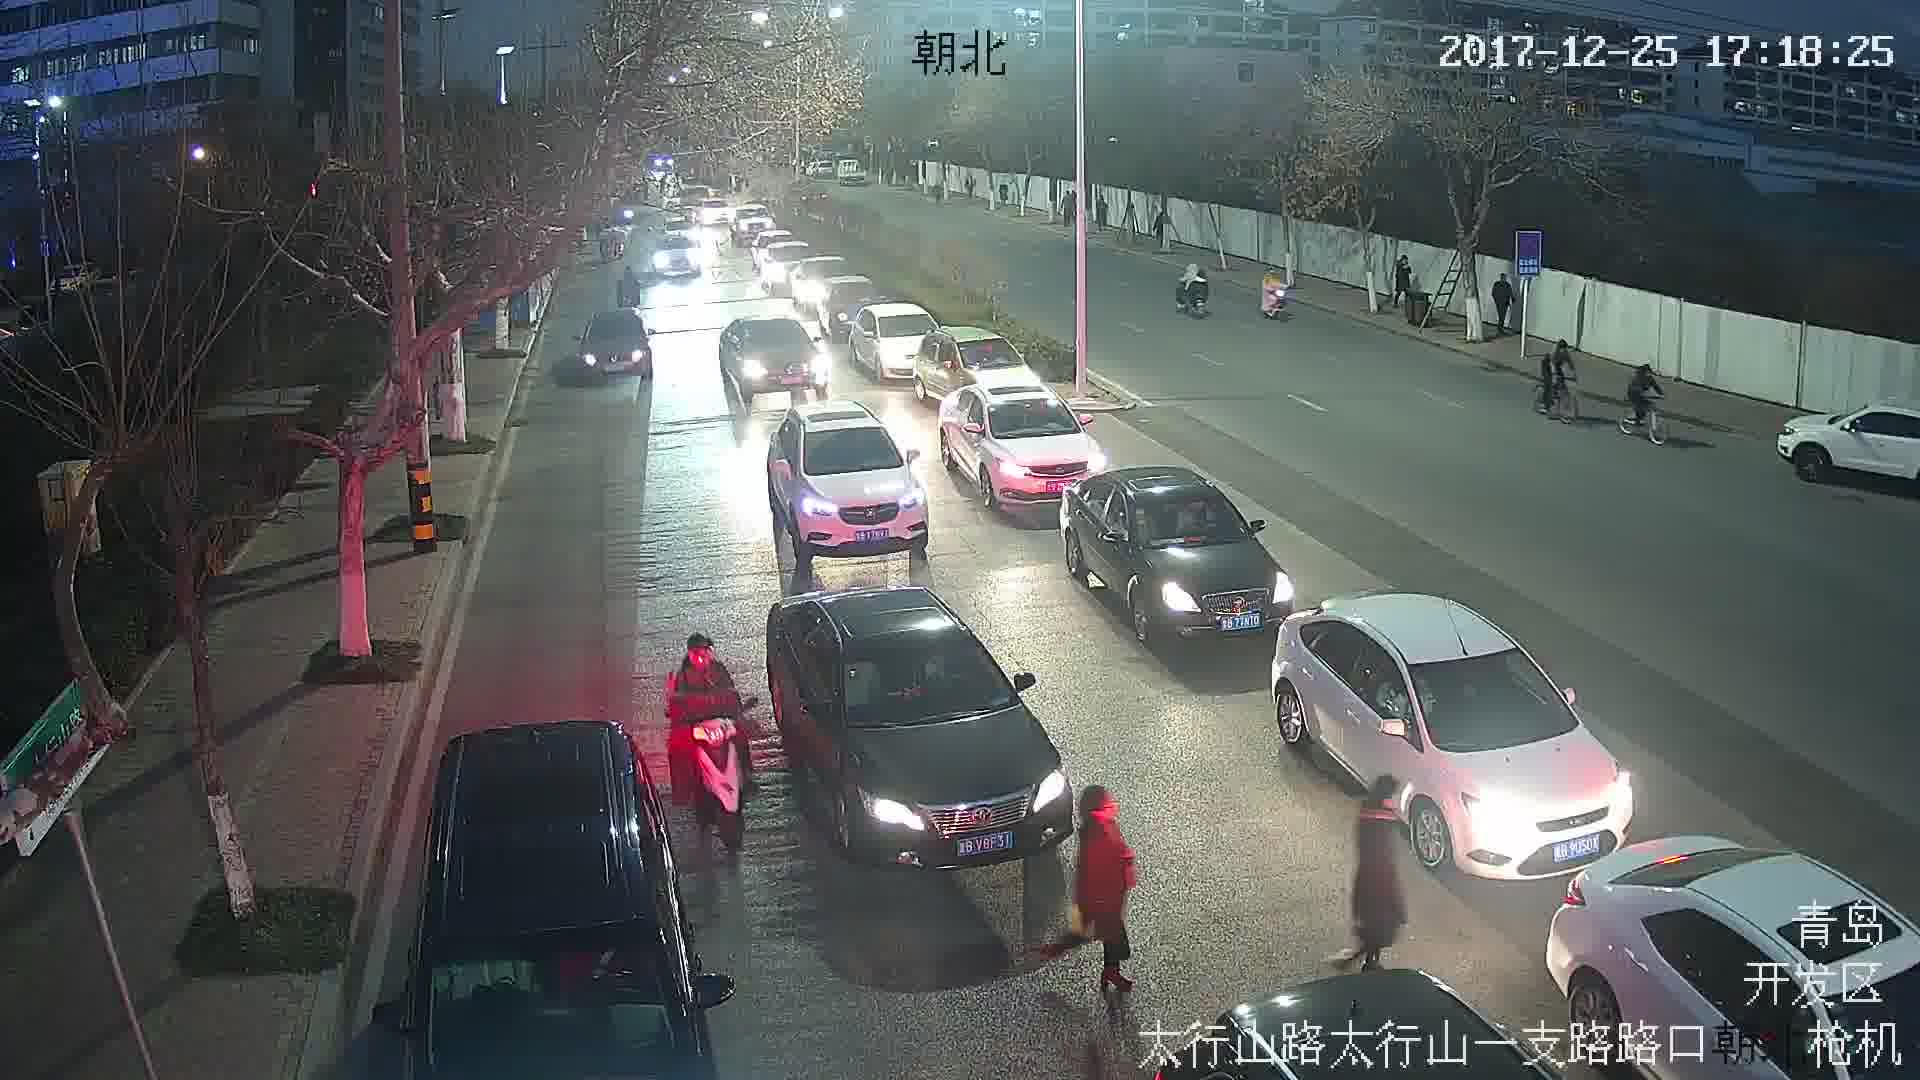car: (1273, 594, 1635, 877), (773, 584, 1071, 867), (1056, 469, 1306, 644), (777, 396, 928, 557), (937, 387, 1110, 505), (718, 309, 823, 395), (850, 303, 942, 381), (585, 310, 657, 377)
person: (666, 628, 750, 795), (1073, 788, 1141, 998), (1343, 774, 1407, 974), (1542, 341, 1577, 410), (1628, 353, 1659, 427), (1491, 270, 1517, 334), (1178, 263, 1207, 307), (1391, 249, 1409, 302)
